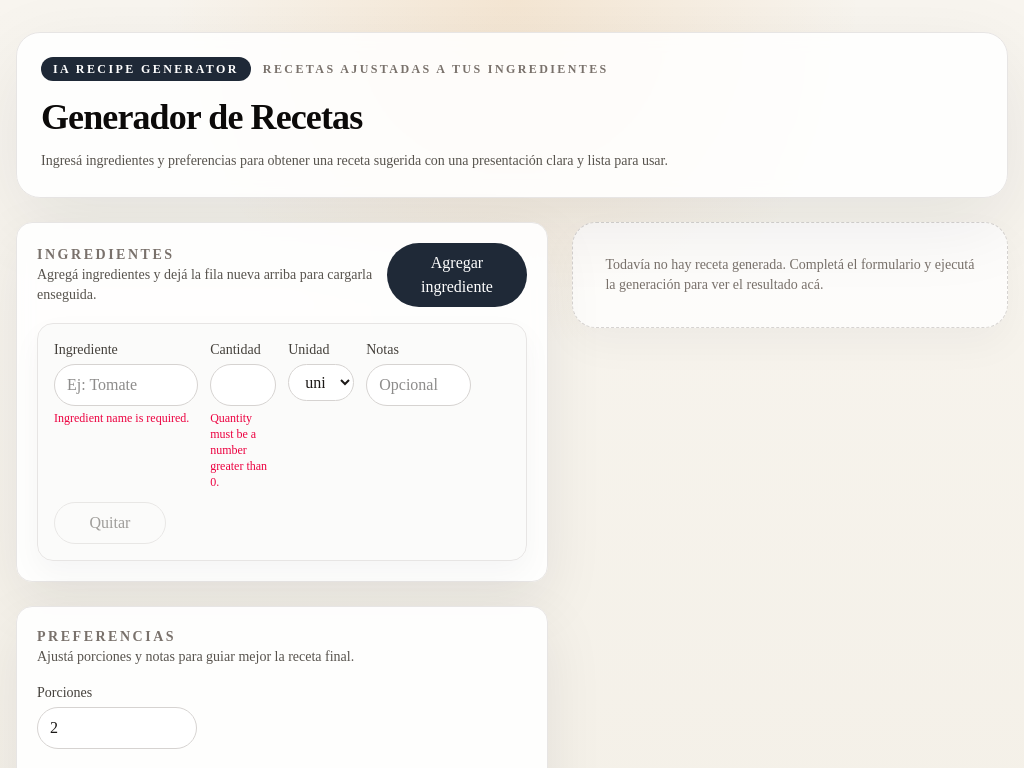
Test: RecipeGeneratorPage › blocks generation when ingredient fields are invalid
Clear the field with placeholder "Ej: Tomate" at point(126, 385), box [54,364,198,406]
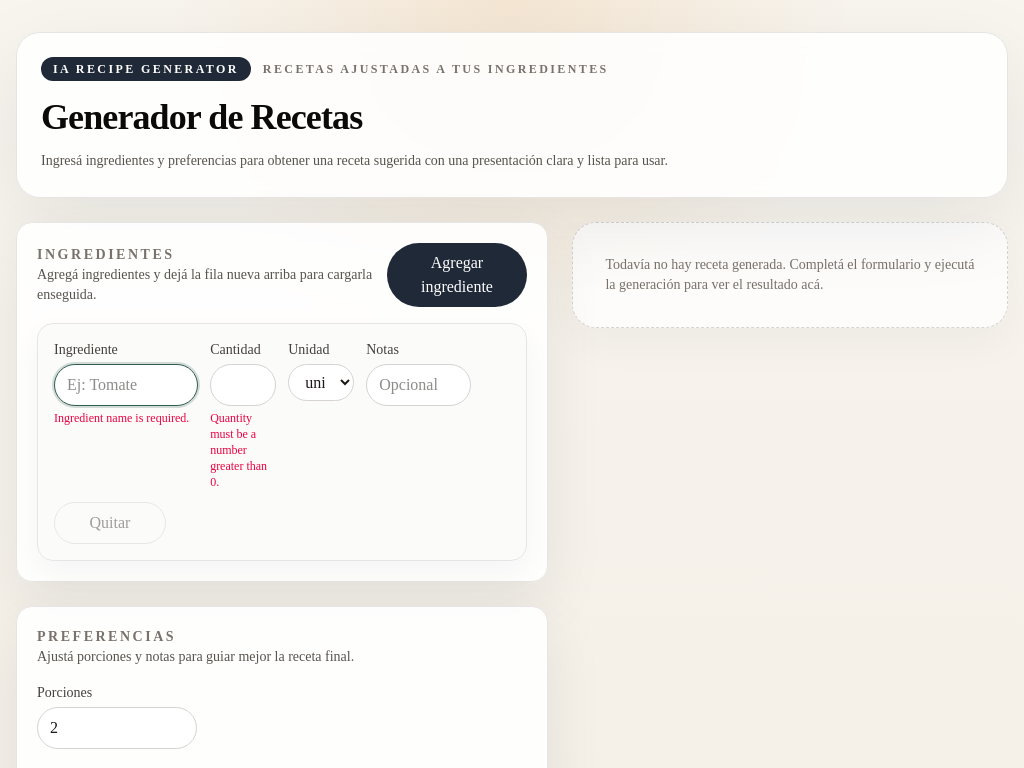
Type "2" into the number field labelled "Cantidad".
click(243, 385); type("2")  # box [210,364,276,406]
(page scrolled)
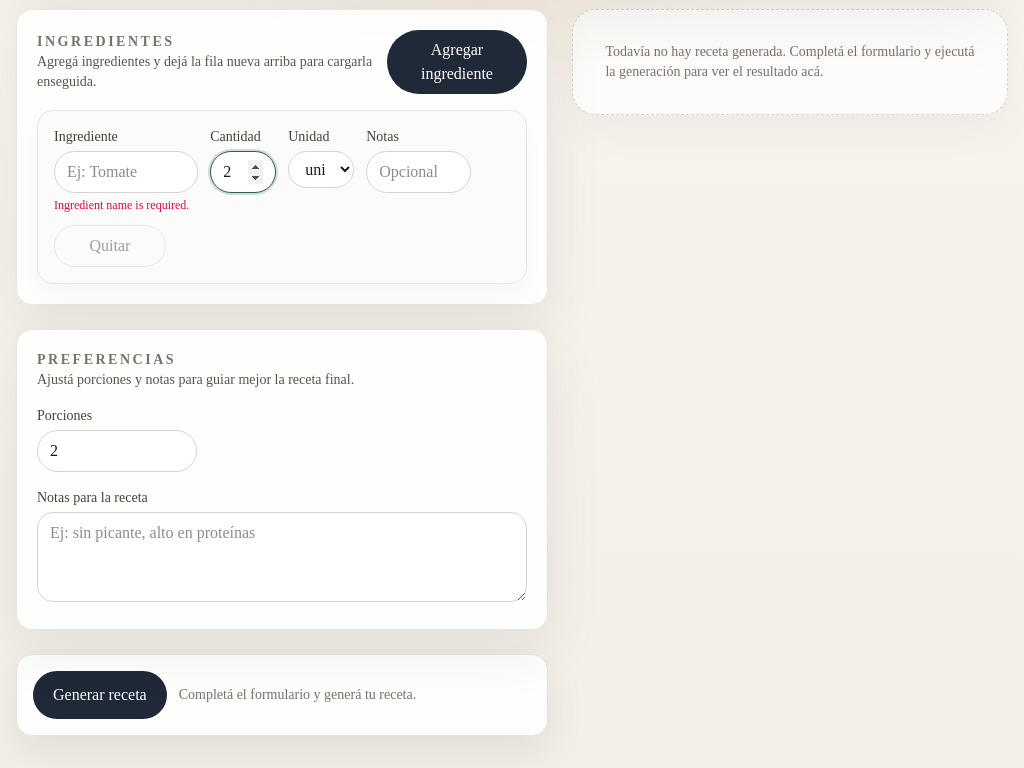
Click the button "Generar receta".
click(100, 695)  # box [33,671,167,719]
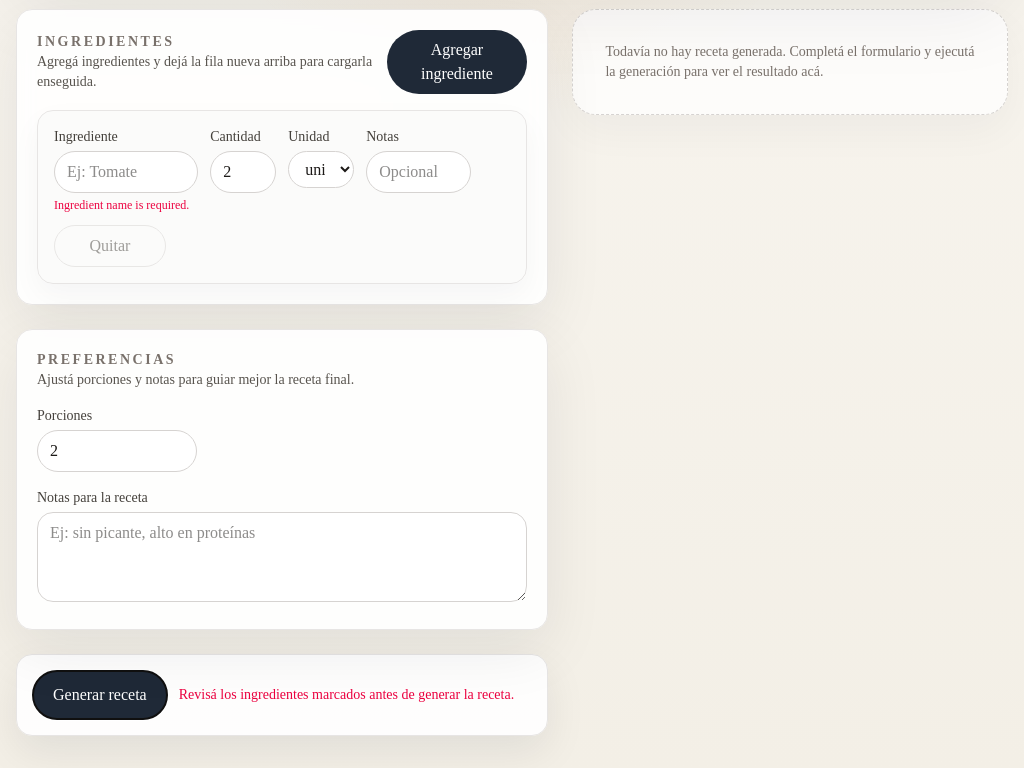
Expected: the text "Ingredient name is required." is shown, [54,197,198,213]
Result: the text "Revisá los ingredientes marcados antes de generar la receta." is shown at [179,685,514,705]
